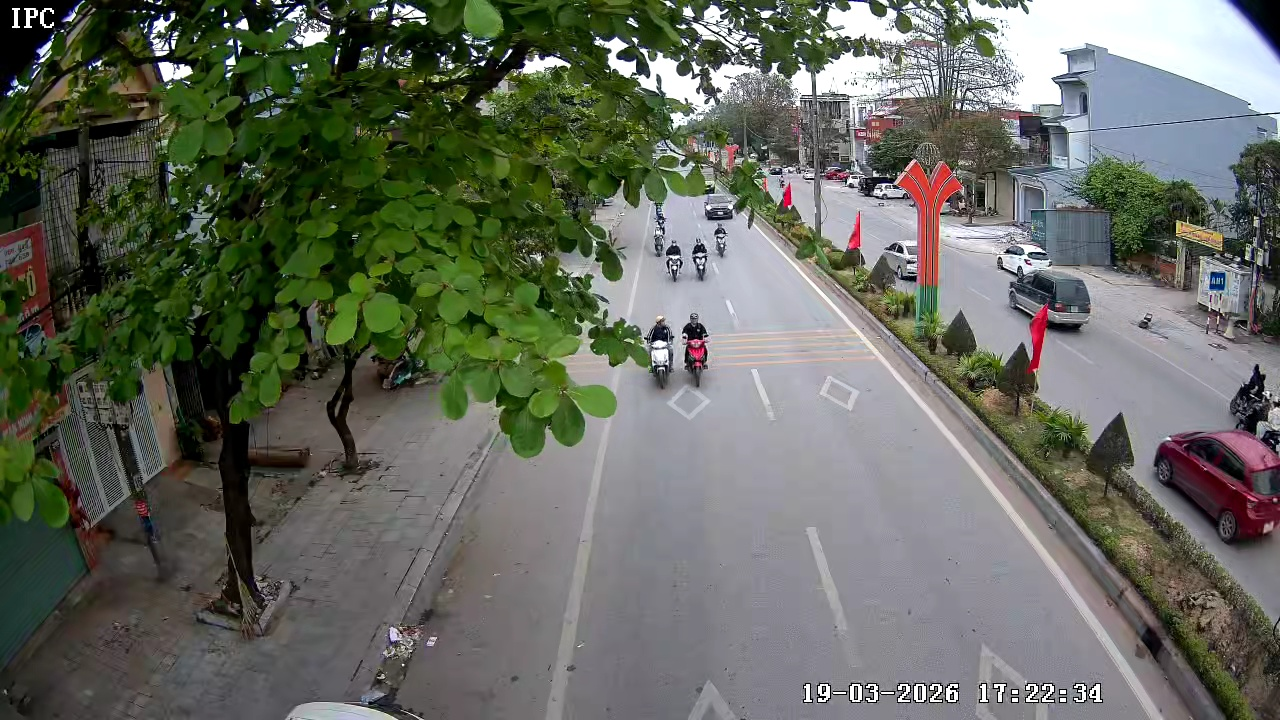car: (1153, 429, 1279, 544), (1006, 267, 1093, 332), (996, 240, 1050, 276), (703, 190, 738, 220)
motorbike: (643, 312, 677, 389), (679, 311, 712, 387), (690, 235, 710, 280), (664, 239, 684, 282), (649, 212, 666, 256), (713, 224, 732, 258)
